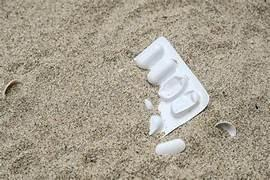pill_Strip: (135, 37, 208, 134), (155, 139, 185, 154), (2, 79, 20, 98), (215, 121, 236, 136)
